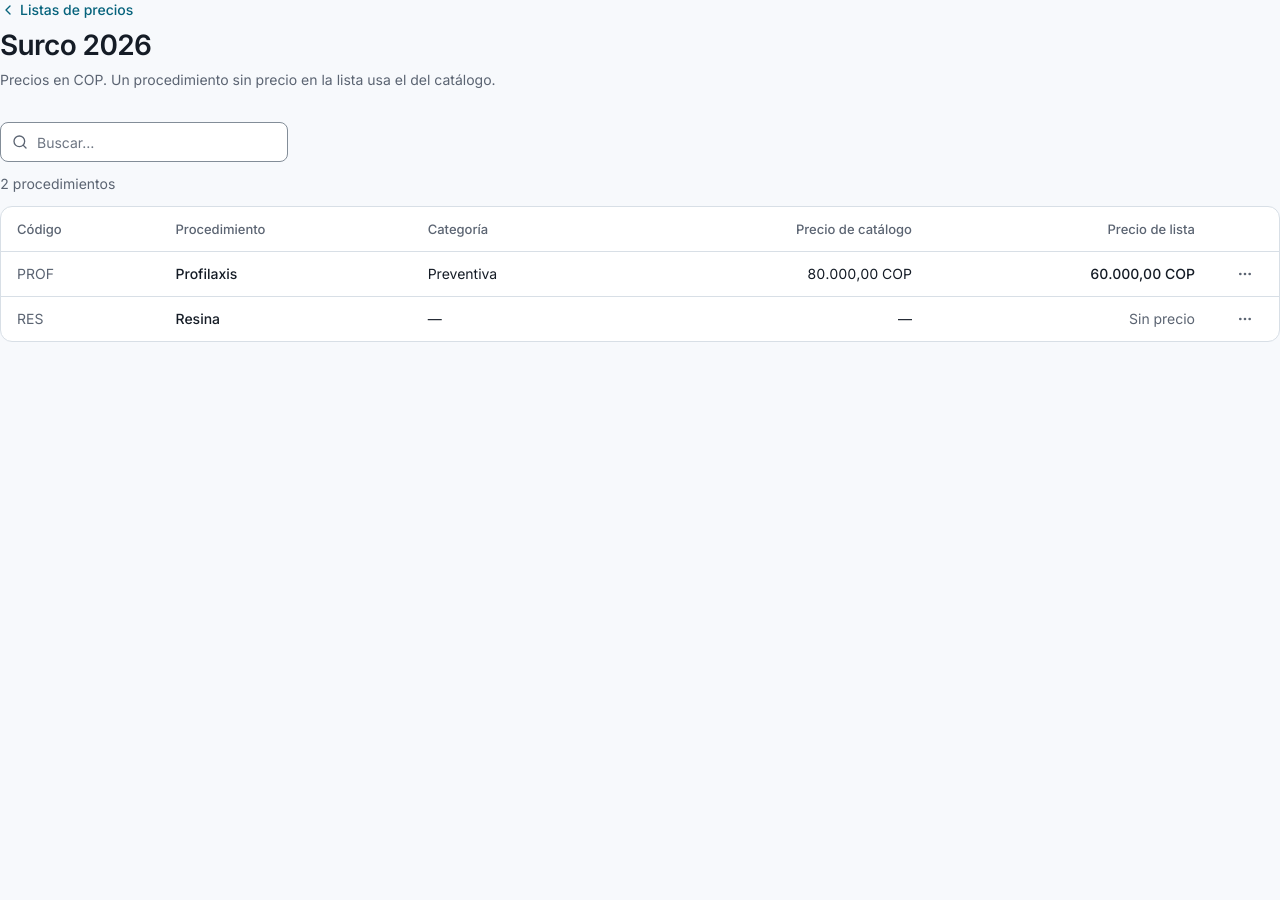
Test: PriceListItemsView (DX-105) › «Quitar precio» pide confirmación y manda price null
Click the button named "Acciones de Profilaxis".
click(1245, 274)  # box [1227,256,1263,292]
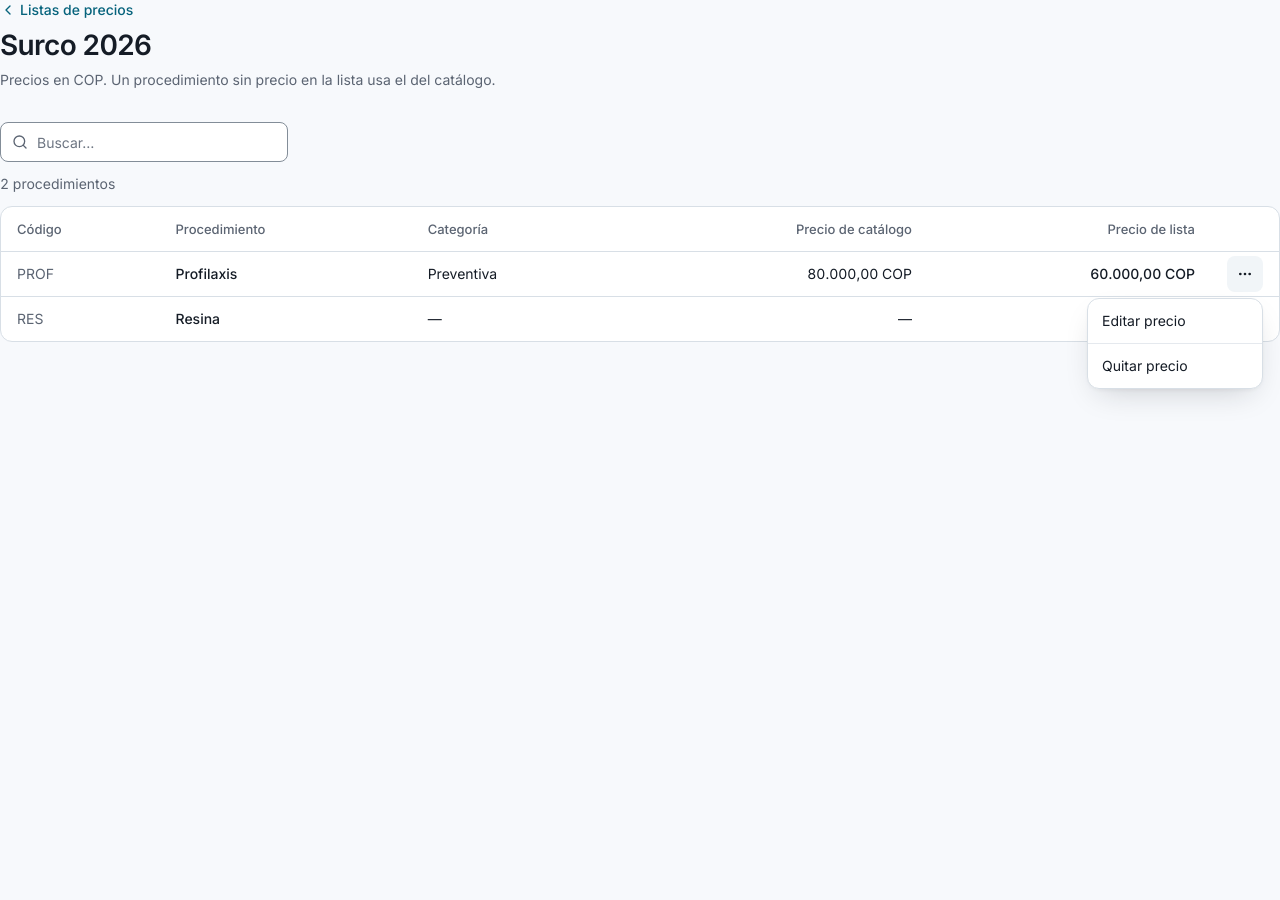
Click the menu item "Quitar precio".
click(1145, 366)  # box [1102,357,1188,374]
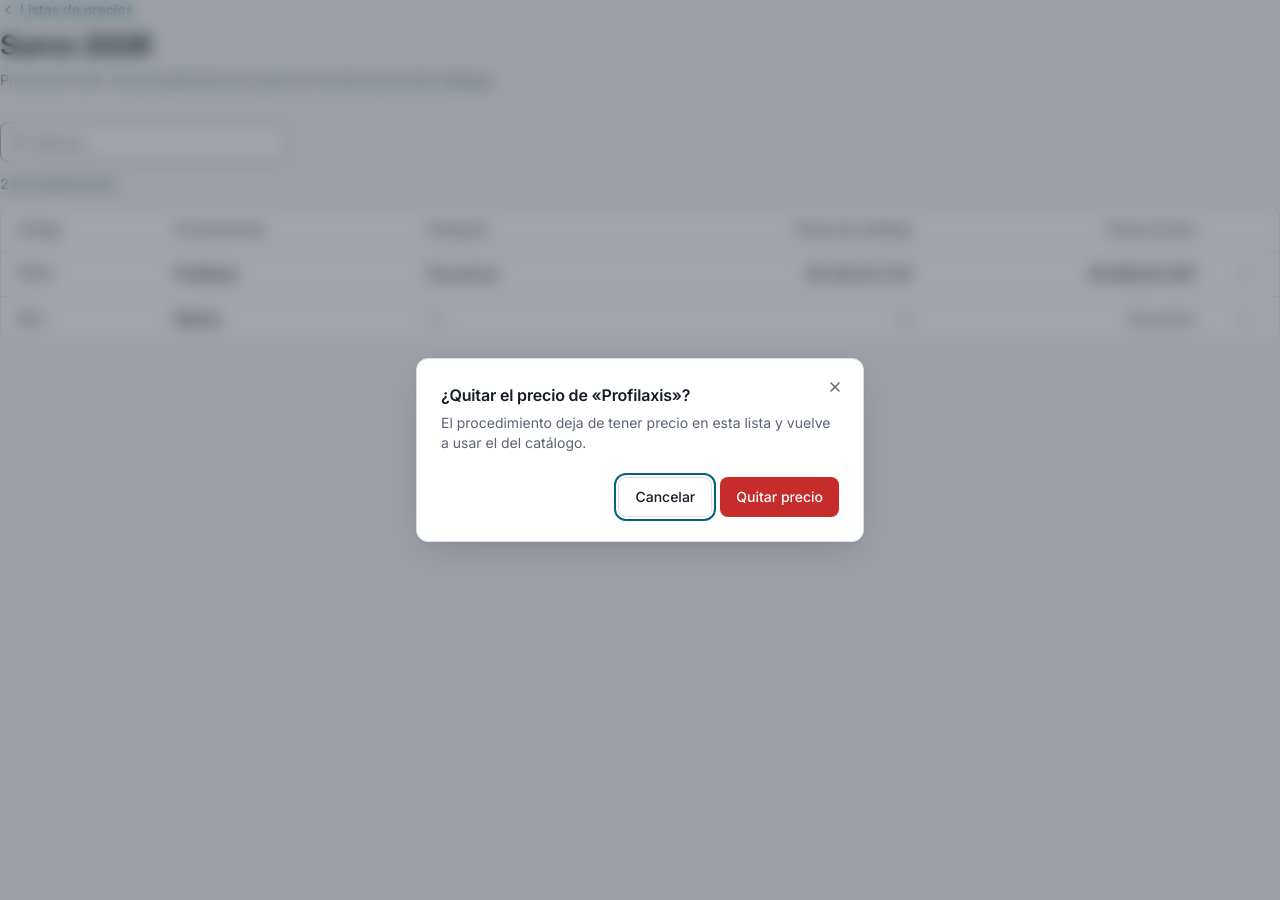
Click the button "Quitar precio".
click(780, 497)  # box [720,477,839,517]
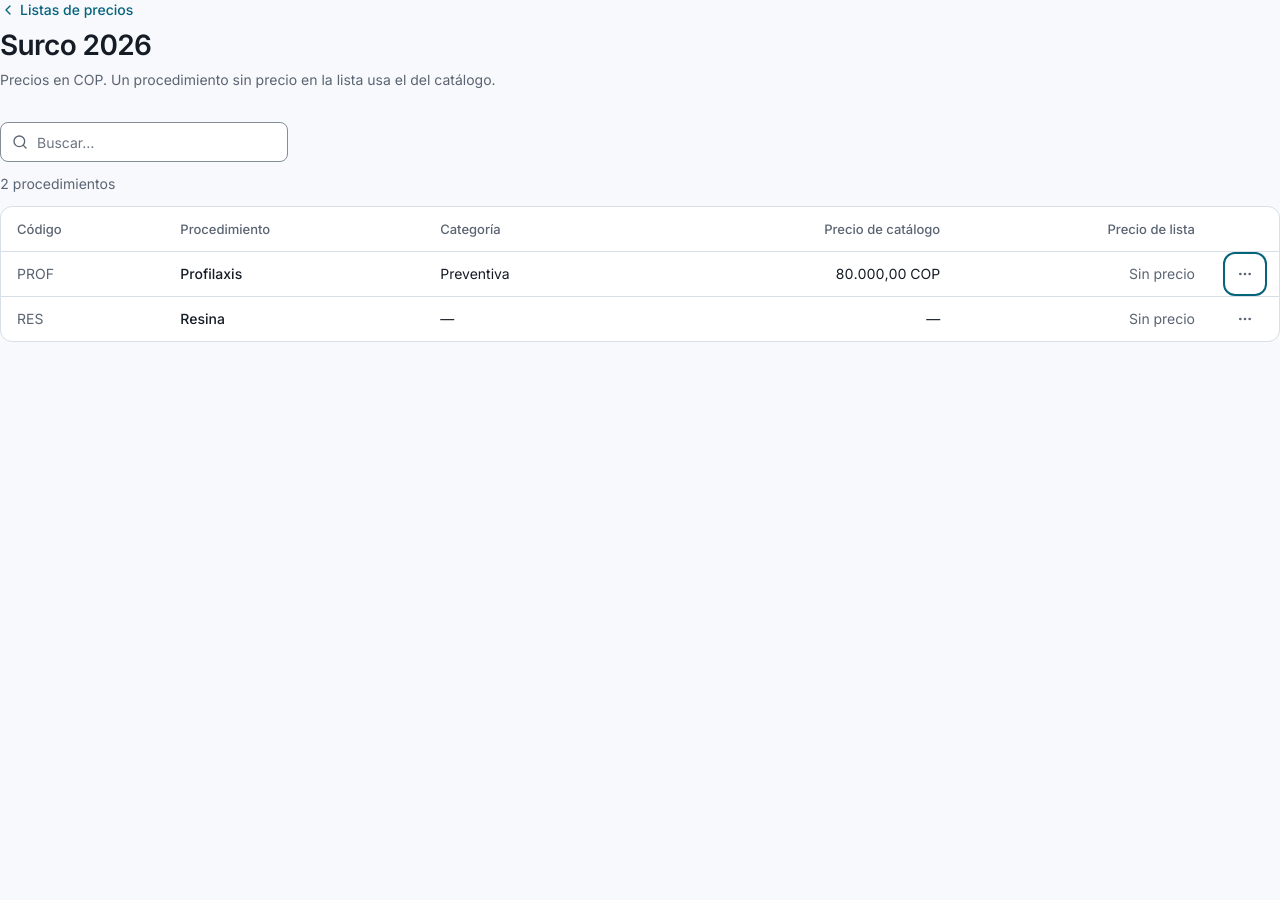
Result: the text "Sin precio" is shown at [1129,264,1195,282]
